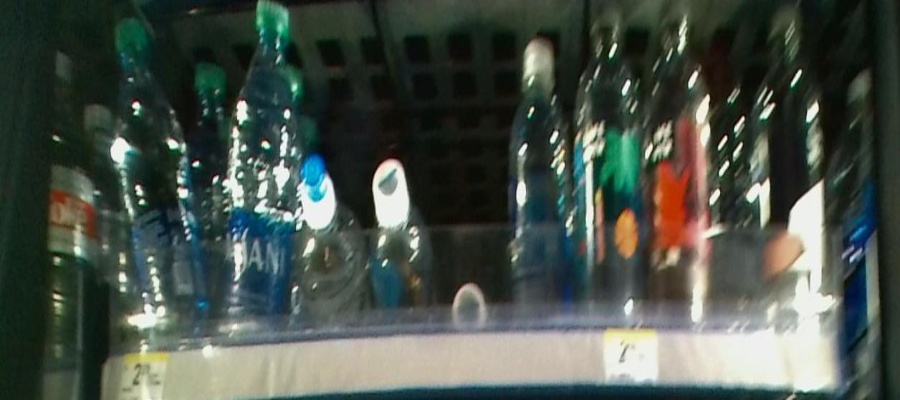bottle: (576, 9, 645, 328), (648, 4, 712, 332), (232, 1, 289, 350), (507, 36, 573, 325), (758, 4, 818, 317), (363, 146, 435, 321), (297, 143, 355, 316)
